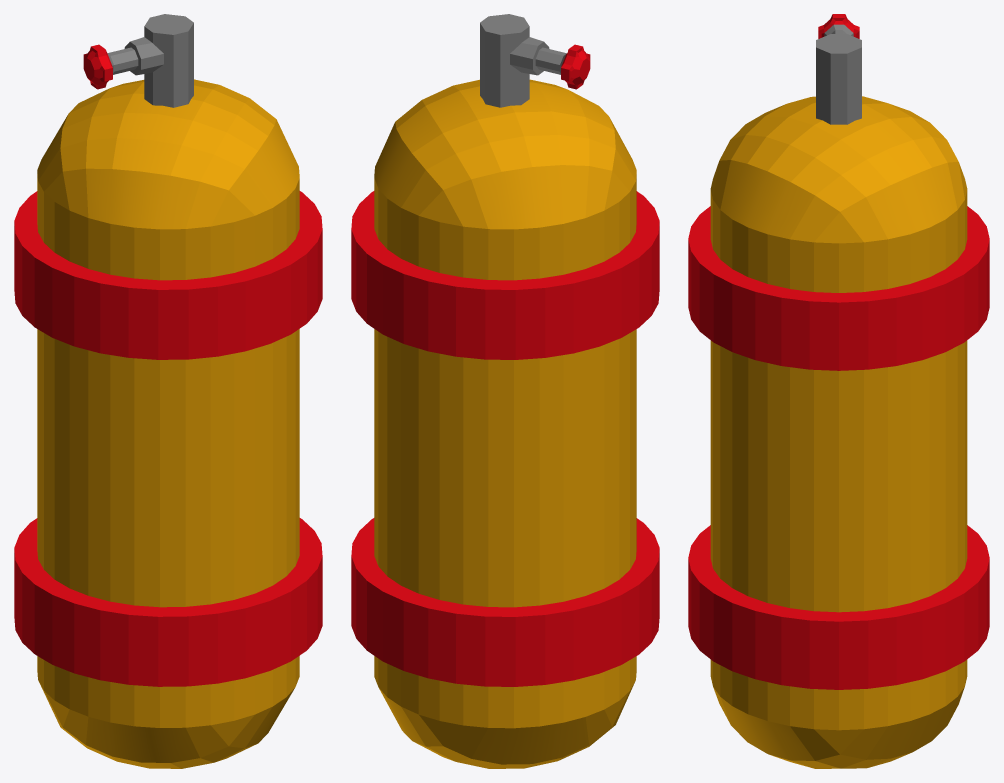
The model's file is OxygenTank.fbx.
3 views of the same model, side by side, from view 1: azimuth 30°, elevation 25°; view 2: azimuth 150°, elevation 25°; view 3: azimuth 270°, elevation 25° (orthographic). The views are drawn at different scales.
Visible parts, largest first — view 1: Cylinder; view 2: Cylinder; view 3: Cylinder.
Part boxes in pixels (x1,y1,x2,y2): Cylinder: (14,14,322,768); Cylinder: (351,14,659,768); Cylinder: (688,14,989,768).
Bounding box in the file's own units: 272 × 707 × 272.
